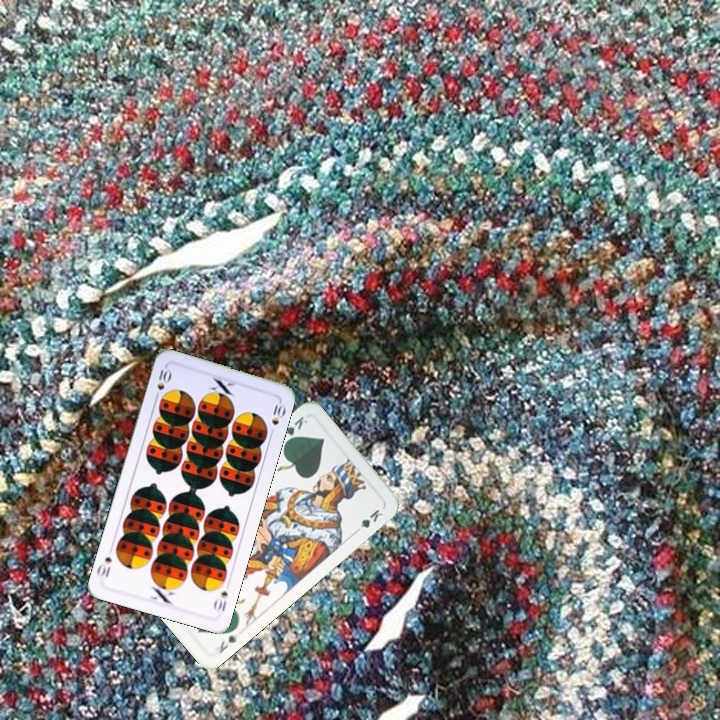GK: (280, 412, 310, 446), (215, 630, 241, 656)
S10: (151, 365, 173, 403), (210, 587, 230, 614)
